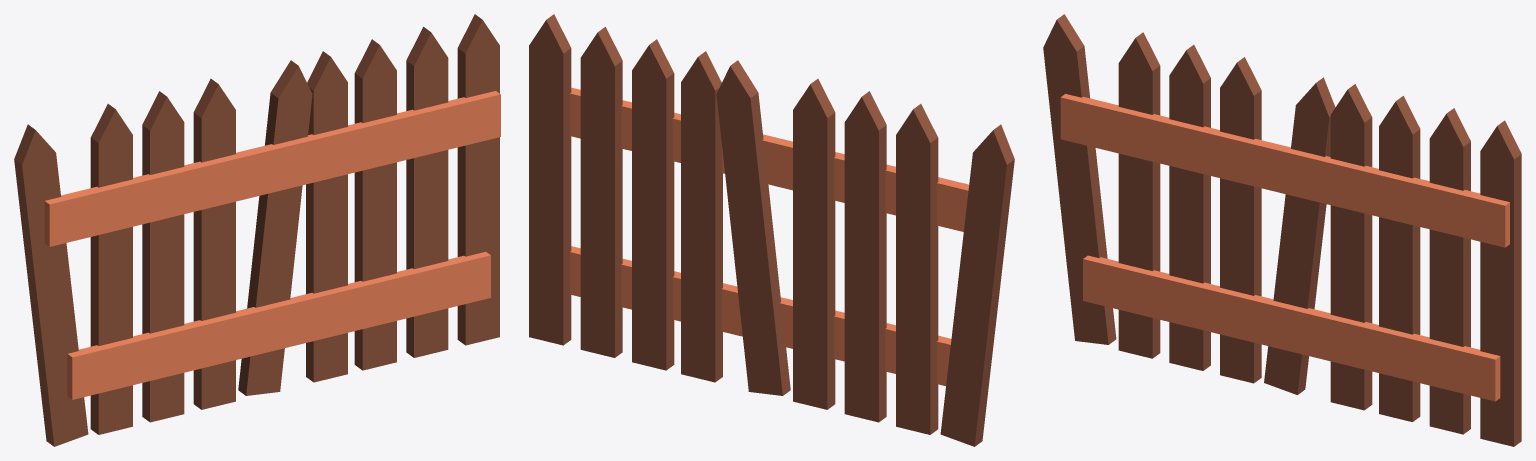
File: fence.fbx
3 views of the same model, side by side, from view 1: azimuth 30°, elevation 25°; view 2: azimuth 150°, elevation 25°; view 3: azimuth 330°, elevation 25° (orthographic).
Parts seen in each view (by area): view 1: Cube.009; view 2: Cube.009; view 3: Cube.009.
Boxes of the visible parts, <box> form: Cube.009: <box>14,14,500,446</box>; Cube.009: <box>529,14,1014,446</box>; Cube.009: <box>1043,14,1521,446</box>.
Size of the model in its own units: 1206 by 778 by 56.28.
